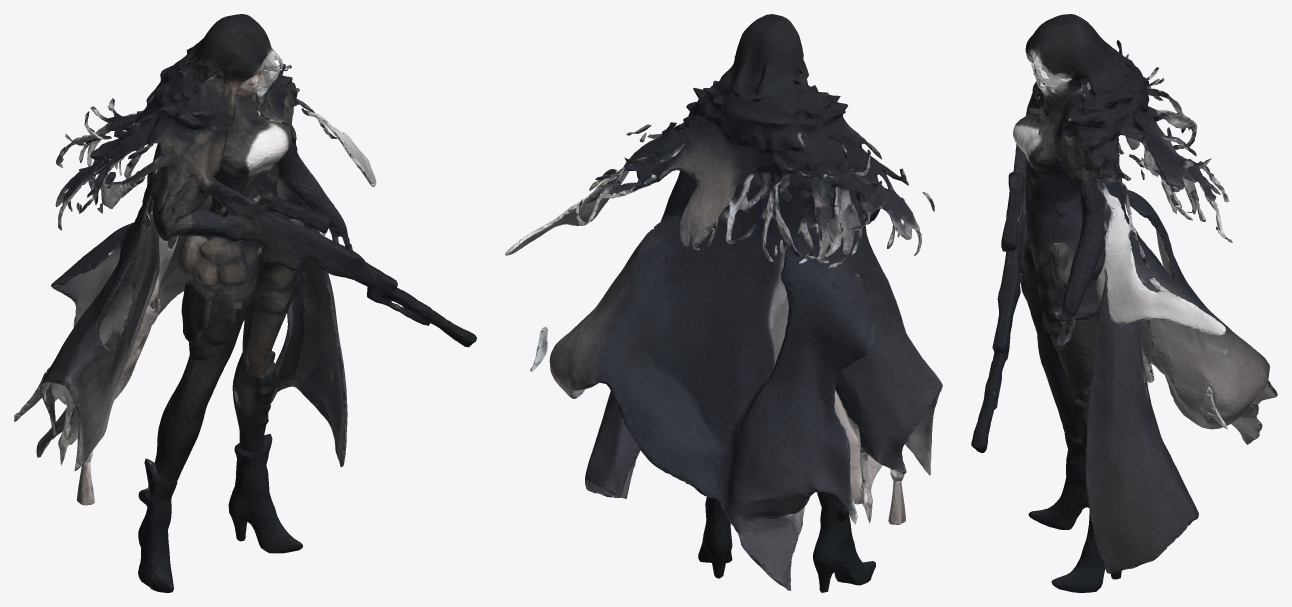
The model's file is hy2_sniper.glb.
The picture shows the model from 3 angles, left to right: view 1: azimuth 30°, elevation 25°; view 2: azimuth 150°, elevation 25°; view 3: azimuth 270°, elevation 25°; orthographic projection.
Parts seen in each view (by area): view 1: world; view 2: world; view 3: world.
Part boxes in pixels (x1=…): world: x1=14, y1=14, x2=476, y2=592; world: x1=505, y1=14, x2=942, y2=592; world: x1=971, y1=14, x2=1277, y2=592.
Bounding box in the file's own units: 1.41 × 2 × 1.01.
Materials: 1 (1 with a texture image).
